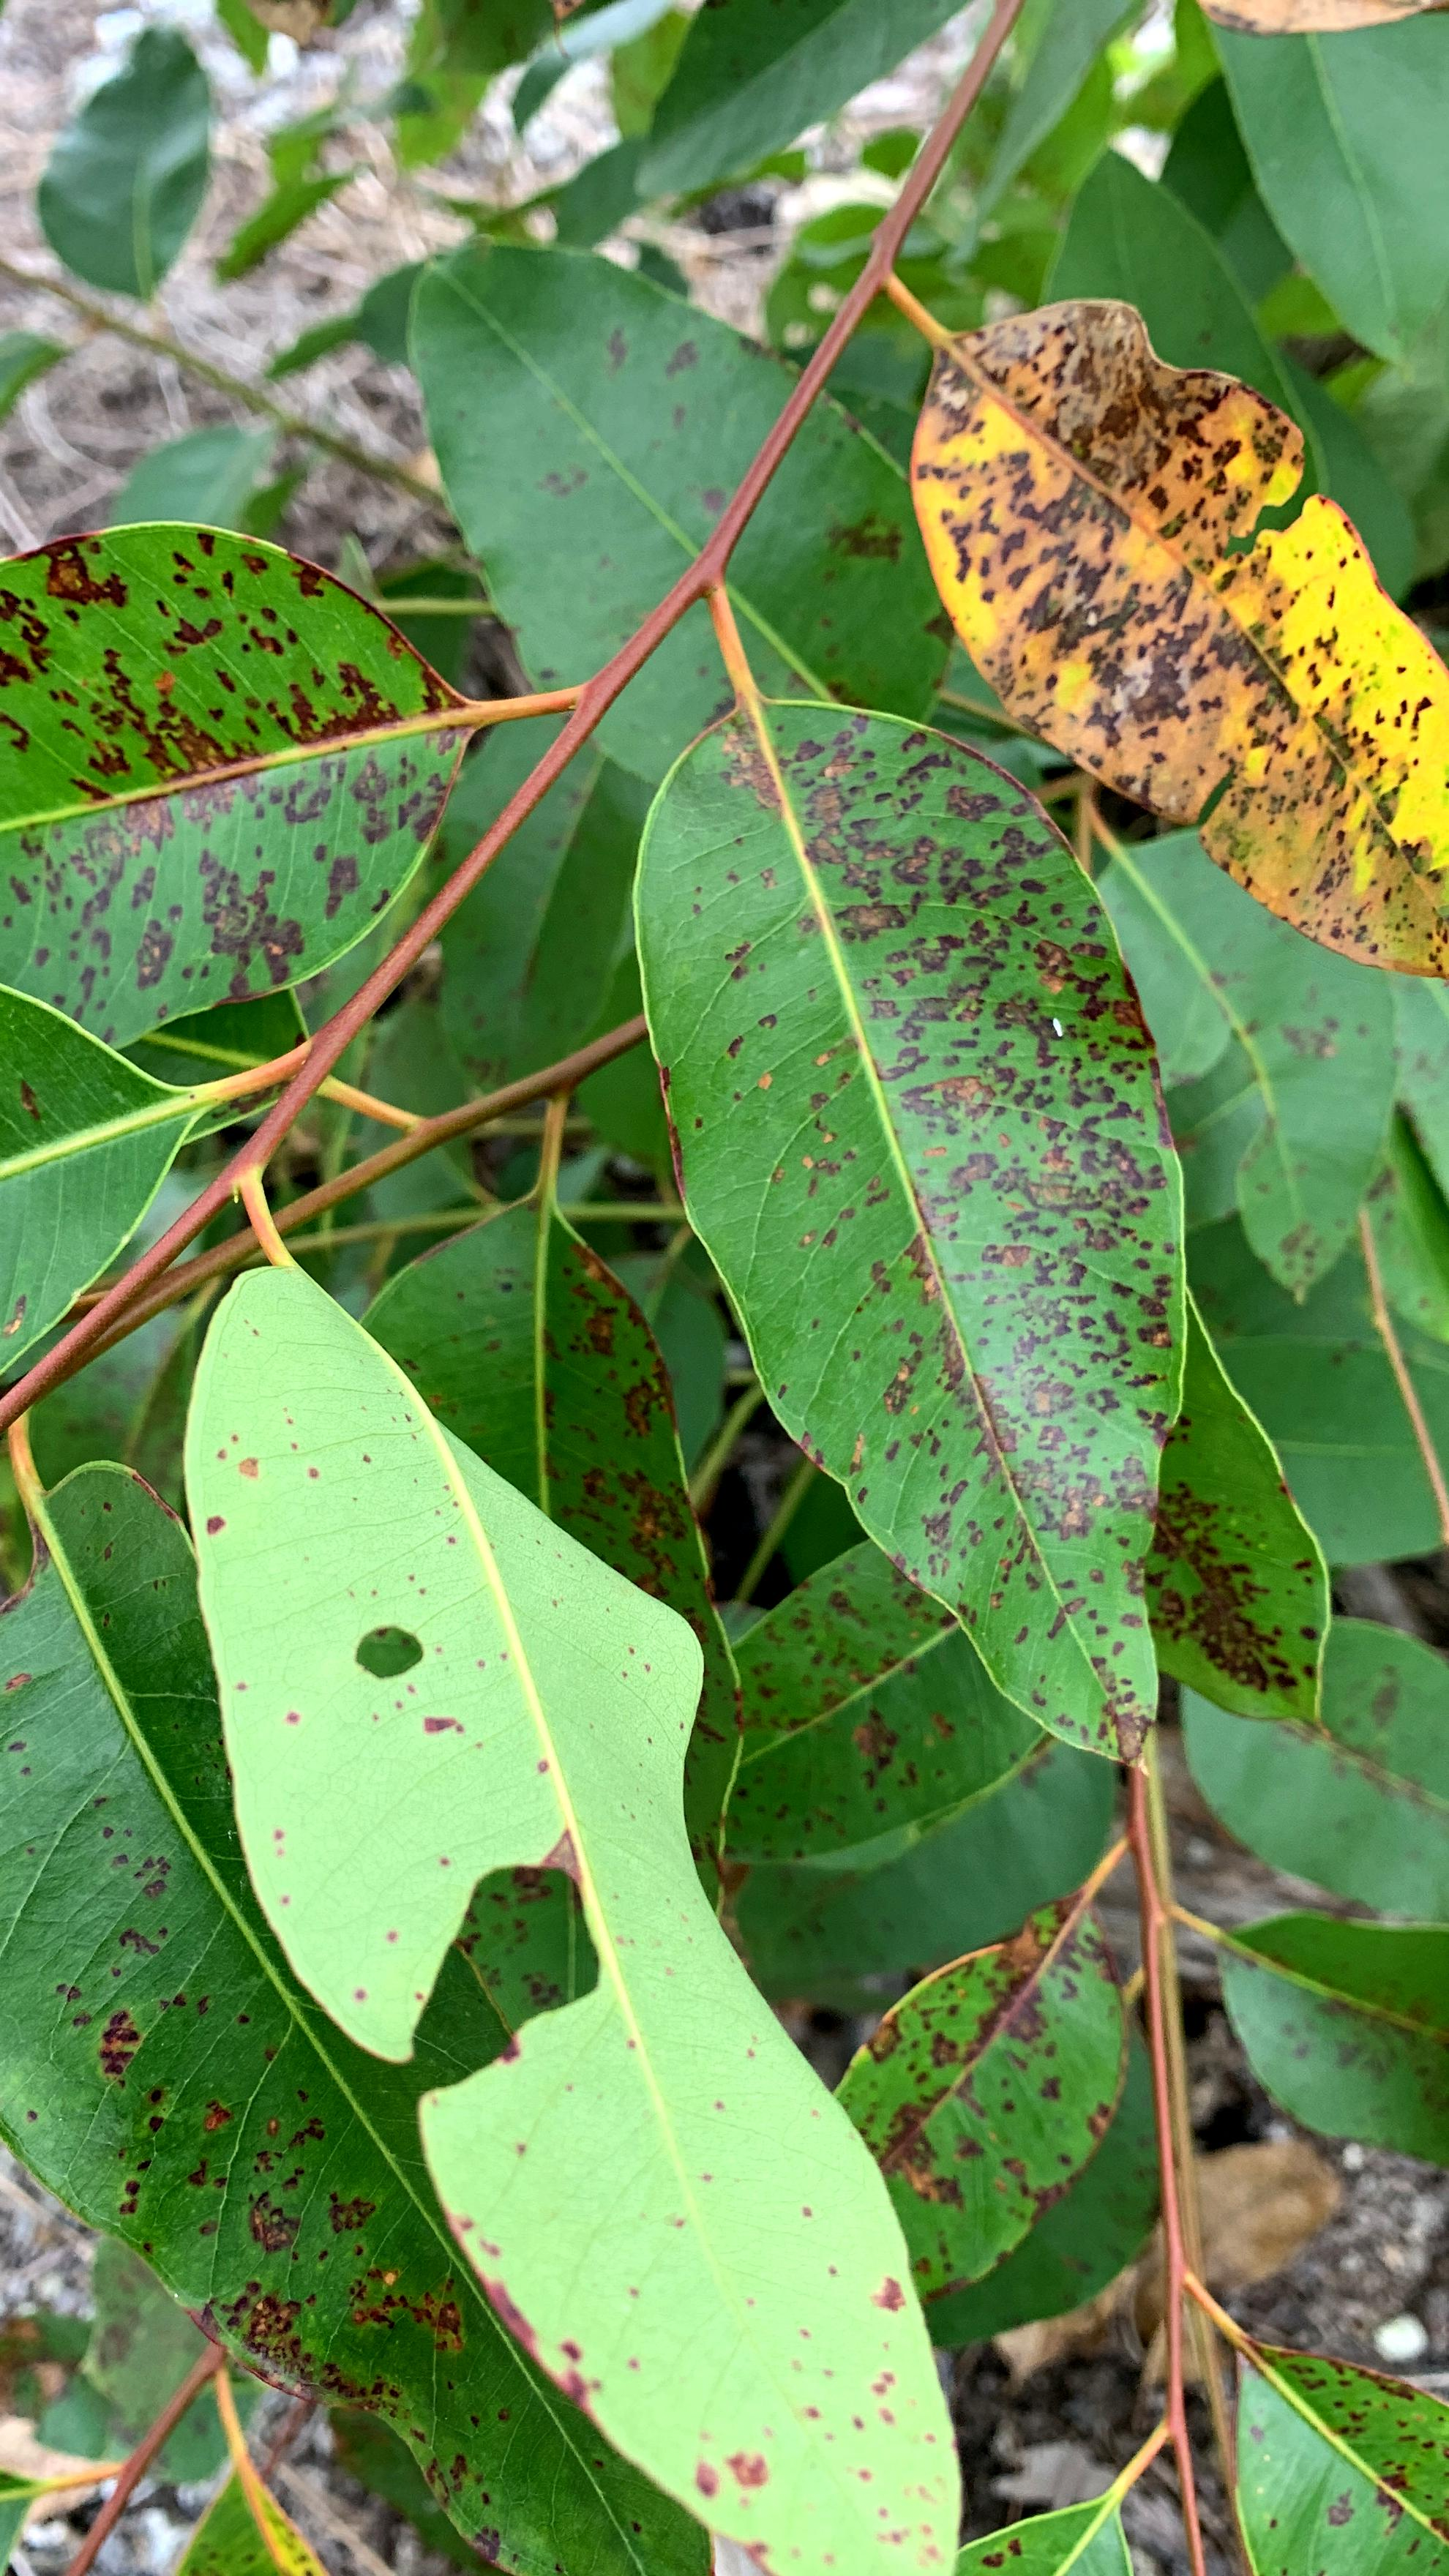Xanthomonas: (653, 704, 1208, 1780), (886, 324, 1449, 973), (67, 1962, 570, 2576), (0, 492, 506, 1062), (816, 1904, 1157, 2291), (1171, 1438, 1343, 1730)
